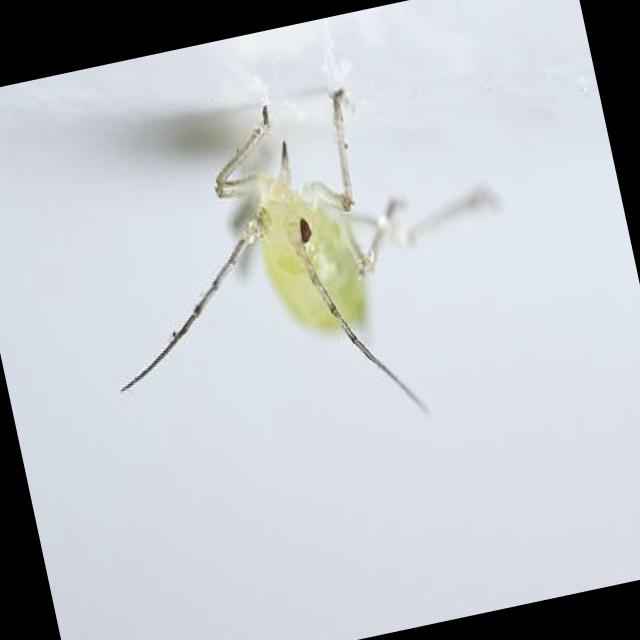Aphids: (67, 40, 471, 476)
